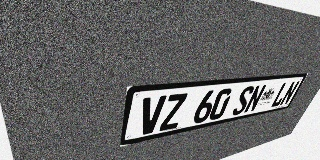0: (208, 88, 234, 121)
6: (192, 90, 219, 124)
L: (270, 82, 292, 108)
N: (243, 84, 267, 113), (279, 81, 300, 106)
S: (231, 86, 256, 116)
V: (137, 95, 167, 136)
Z: (159, 93, 188, 131)
